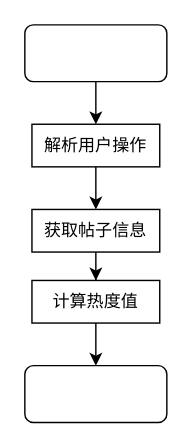
This 192x447 diagram has some shape labels left out. The centre of each missing label's shape, as x and y in pixels:
"写入数据库" goes at [95,393].
"开始" goes at [95,52].
